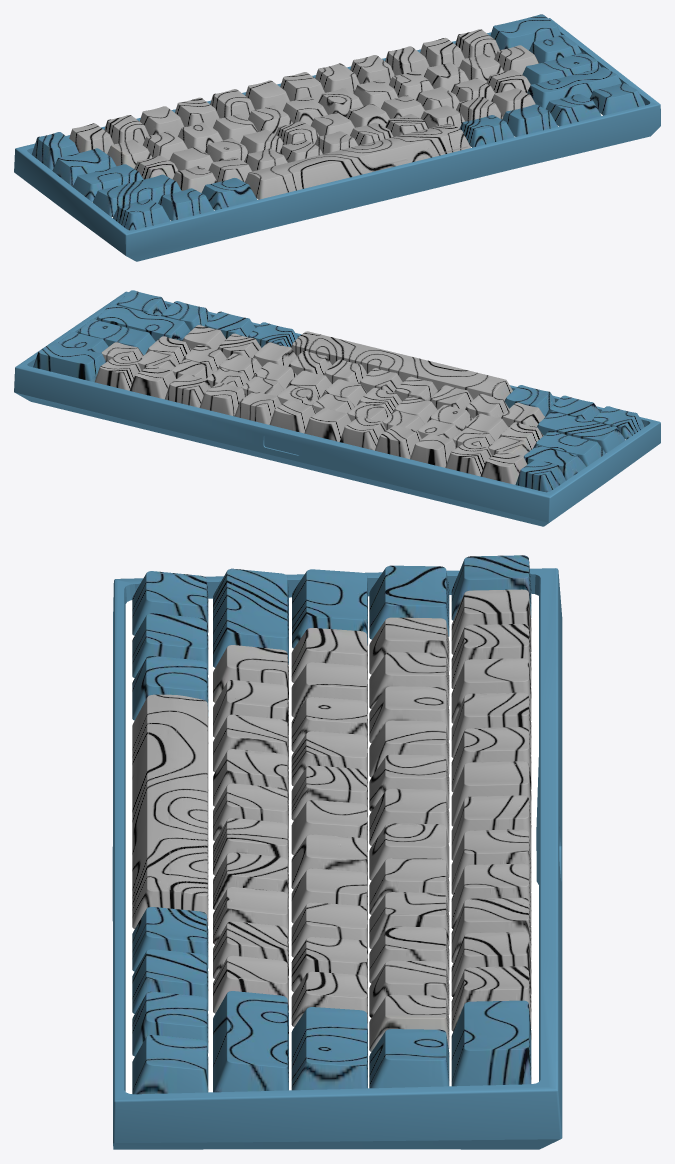
File: teclado-mecanico-azul.glb
3 renders of one model, top to bottom at view 1: azimuth 30°, elevation 25°; view 2: azimuth 150°, elevation 25°; view 3: azimuth 270°, elevation 25°, orthographic. The views are drawn at different scales.
Parts seen in each view (by area): view 1: Object_8, Object_5; view 2: Object_8, Object_5; view 3: Object_8, Object_5, Object_12.
Part boxes in pixels (x1,y1,x2,y2): Object_8: [32, 14, 645, 230]; Object_5: [14, 18, 660, 261]; Object_8: [33, 290, 645, 492]; Object_5: [14, 291, 660, 526]; Object_8: [132, 555, 531, 1094]; Object_5: [112, 568, 562, 1149]; Object_12: [125, 593, 538, 1093].
Bounding box in the file's own units: 0.5521 × 0.0503 × 0.2002.
5 materials, 2 textured.
